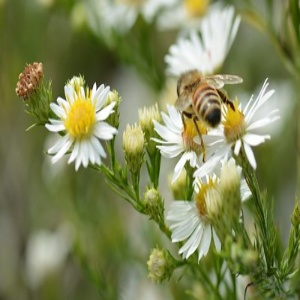bee: (174, 70, 244, 153)
